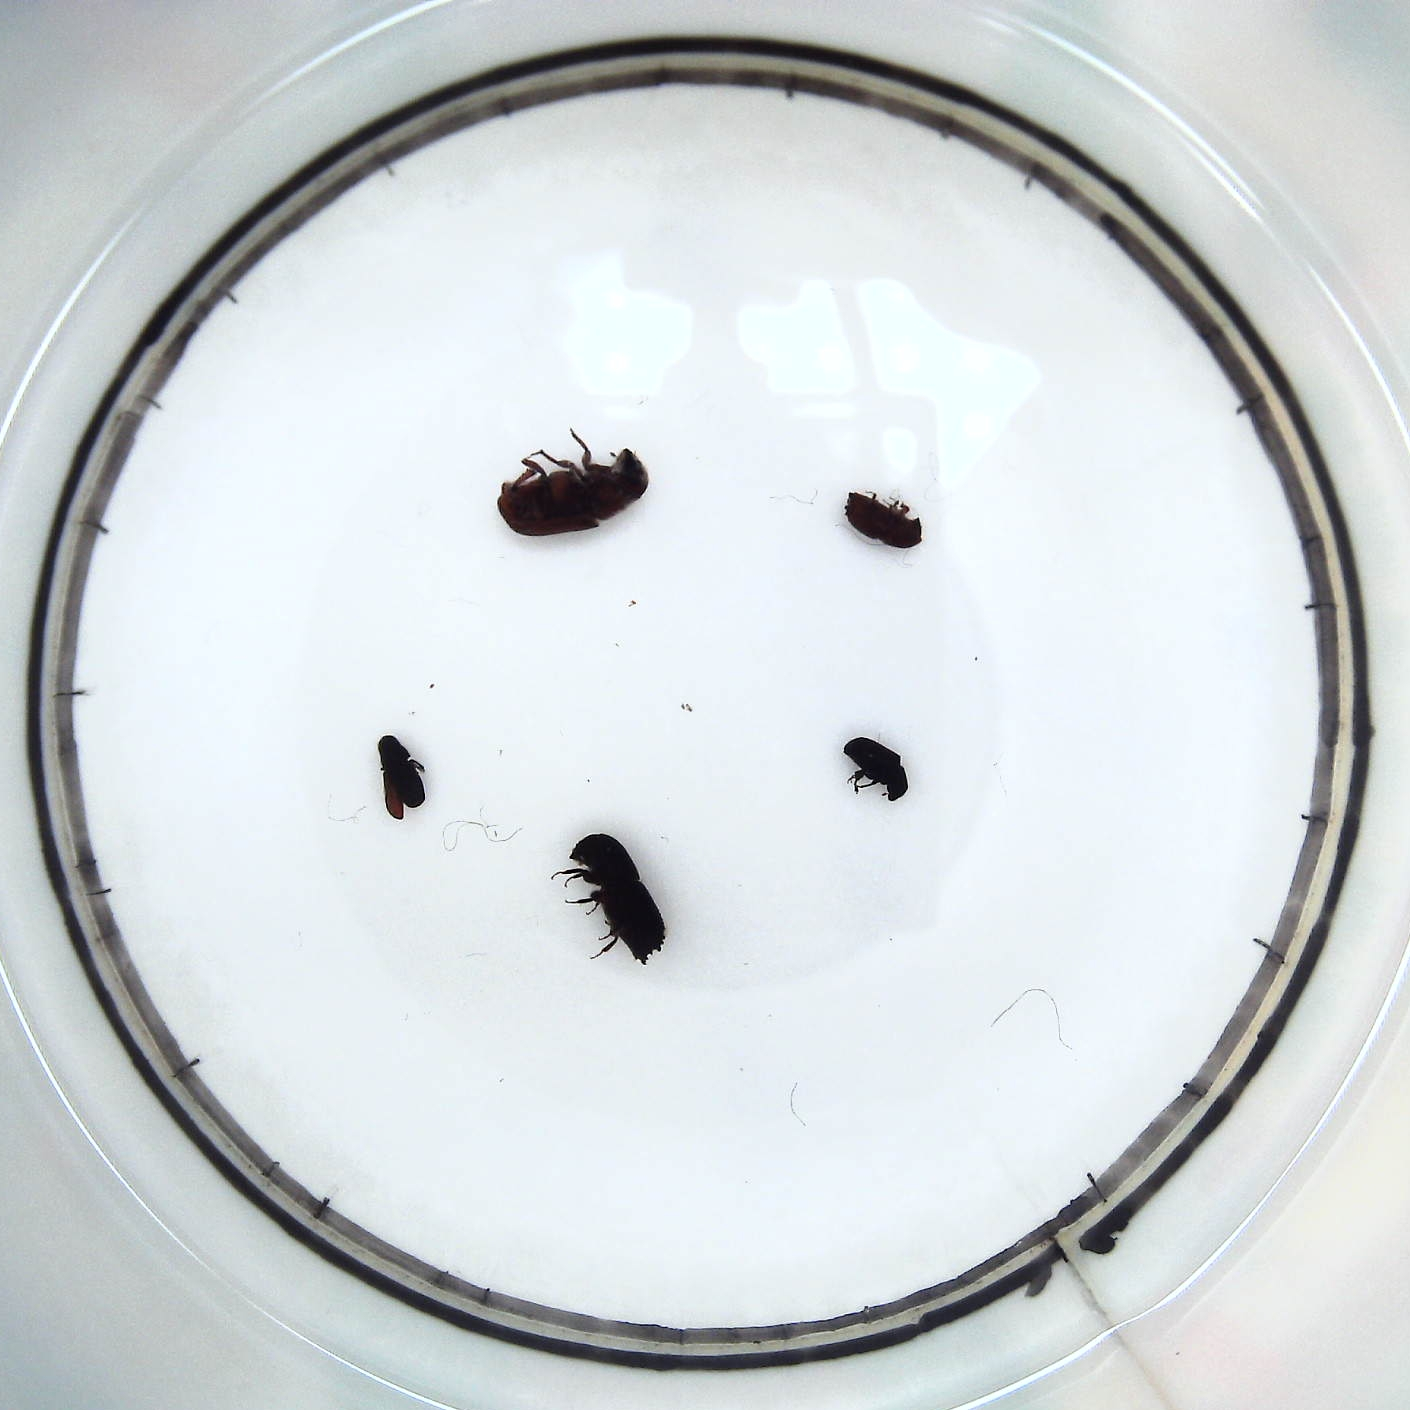Boerner: (545, 826, 670, 968)
Leconte: (495, 426, 655, 547)
armandi: (377, 731, 433, 826)
coleoptera: (833, 733, 914, 807)
linnaeus: (841, 487, 928, 557)
